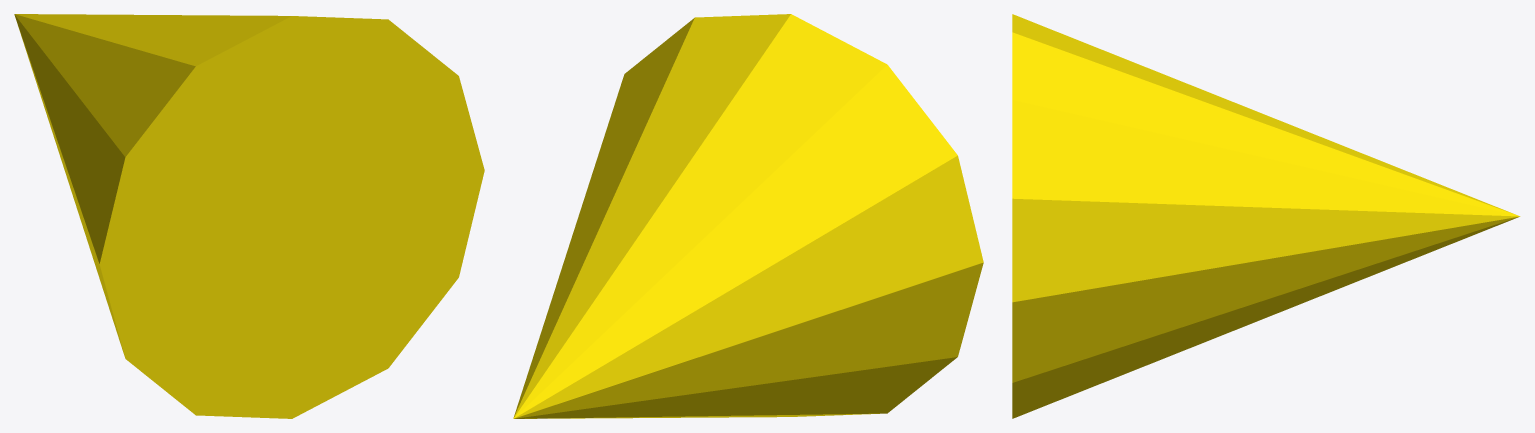
The model's file is arrow.glb.
3 renders of one model, left to right at view 1: azimuth 30°, elevation 25°; view 2: azimuth 150°, elevation 25°; view 3: azimuth 270°, elevation 25°, orthographic. The views are drawn at different scales.
Size of the model in its own units: 2 by 2 by 2.5.
